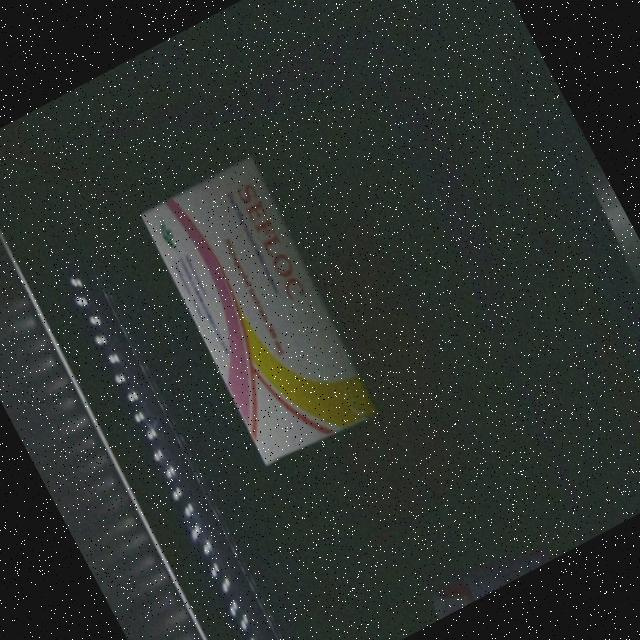medicine_name_detection: (134, 154, 384, 469)
